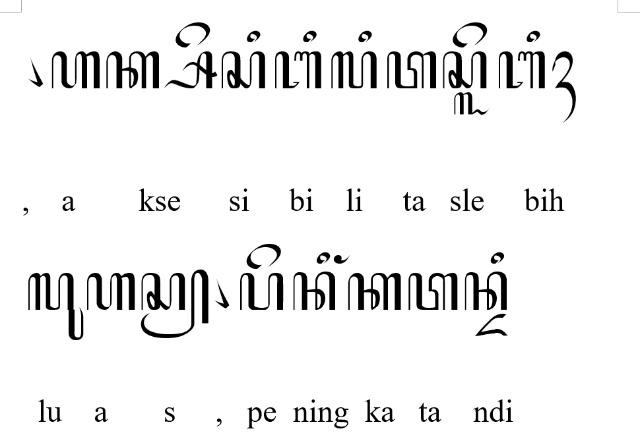-s: (140, 268, 210, 340)
_d: (474, 313, 510, 337)
_h1: (552, 52, 576, 122)
_l: (452, 92, 490, 115)
_s: (164, 52, 218, 90)
b: (274, 50, 324, 90), (497, 50, 545, 88)
e: (175, 22, 211, 48), (452, 22, 488, 48), (246, 244, 280, 268)
h: (51, 51, 101, 91), (86, 271, 136, 311)
i: (246, 30, 260, 44), (526, 29, 540, 43), (316, 252, 330, 266), (490, 251, 504, 265), (303, 30, 317, 42), (358, 30, 372, 42)
k: (104, 50, 160, 90), (348, 272, 402, 312)
kom: (27, 56, 43, 88), (214, 278, 230, 310)
l: (330, 51, 378, 90)
lu: (27, 272, 84, 342)
n: (292, 271, 338, 311), (464, 272, 508, 310)
ng: (334, 253, 350, 264)
p: (239, 273, 283, 311)
s: (222, 51, 266, 91), (442, 51, 488, 89)
t: (387, 50, 438, 90), (408, 272, 458, 312)
